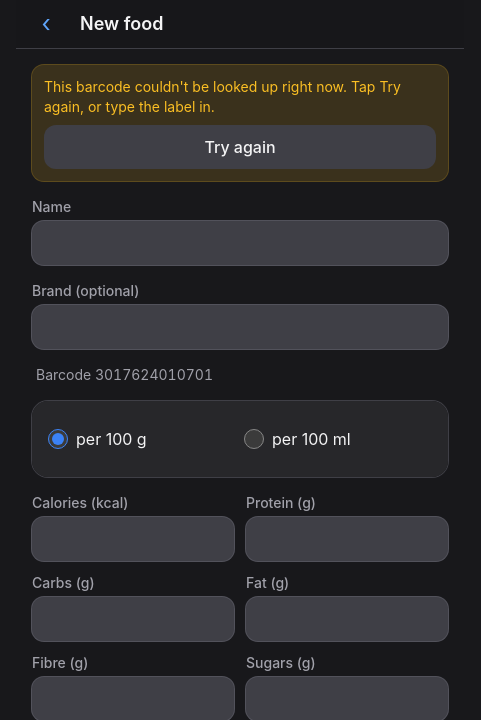
Scenario: Try again that fails again says so, and can be tapped again
Click the button "Try again" at (240, 147), box top-left (44, 125), bottom-right (436, 169)
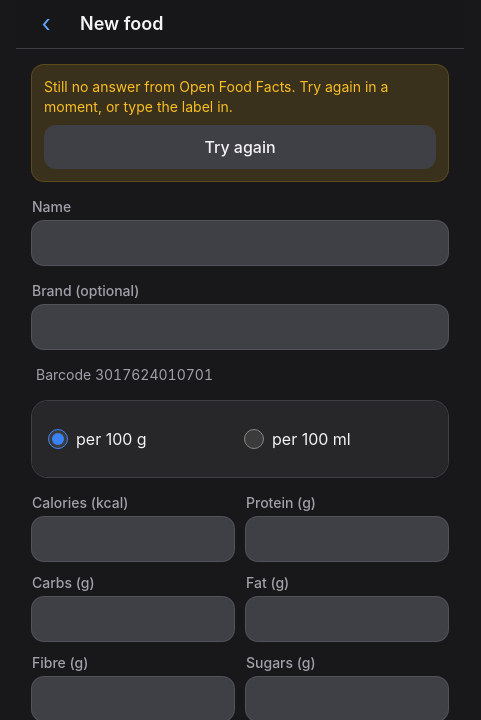
Expected: the heading "New food" is shown, top-left (80, 13), bottom-right (163, 34)
Now the text "Still no answer from Open Food Facts. Try again in a moment, or type the label in." is shown, box top-left (44, 78), bottom-right (388, 115)
